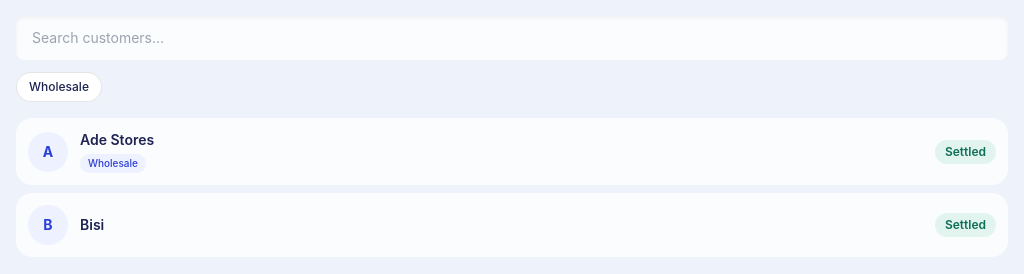
Test case: Labels on the customers screen (§G) › finds a customer by a label typed into search
Expected: the text "Ade Stores" is shown, [80,131,154,148]
In the search field: (512,38) [16,16,1008,60], type "wholesale"
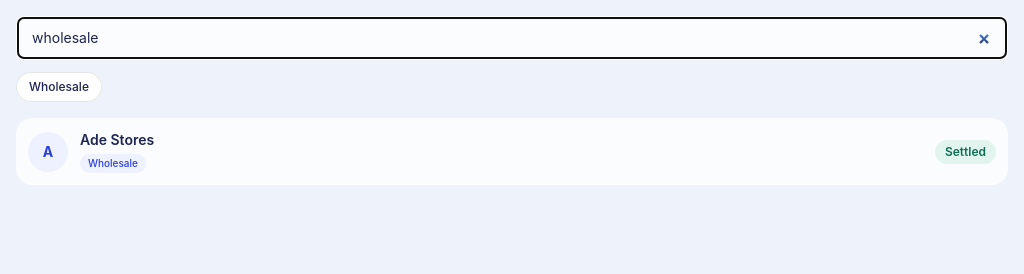
Expected: the text "Ade Stores" is shown, [80,131,154,148]
Now the button "Bisi" is gone
